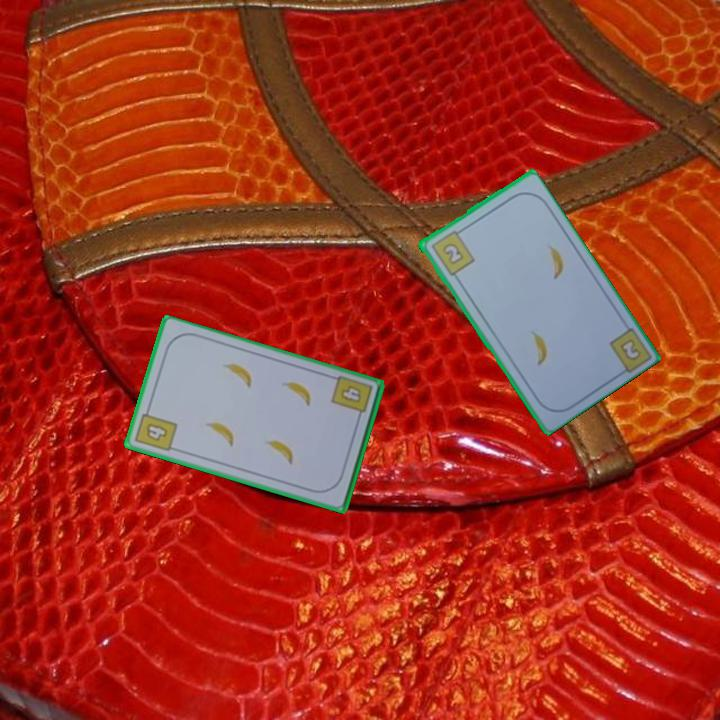2b: (427, 225, 477, 278), (618, 337, 642, 361)
4b: (131, 403, 180, 455), (328, 372, 375, 424)
